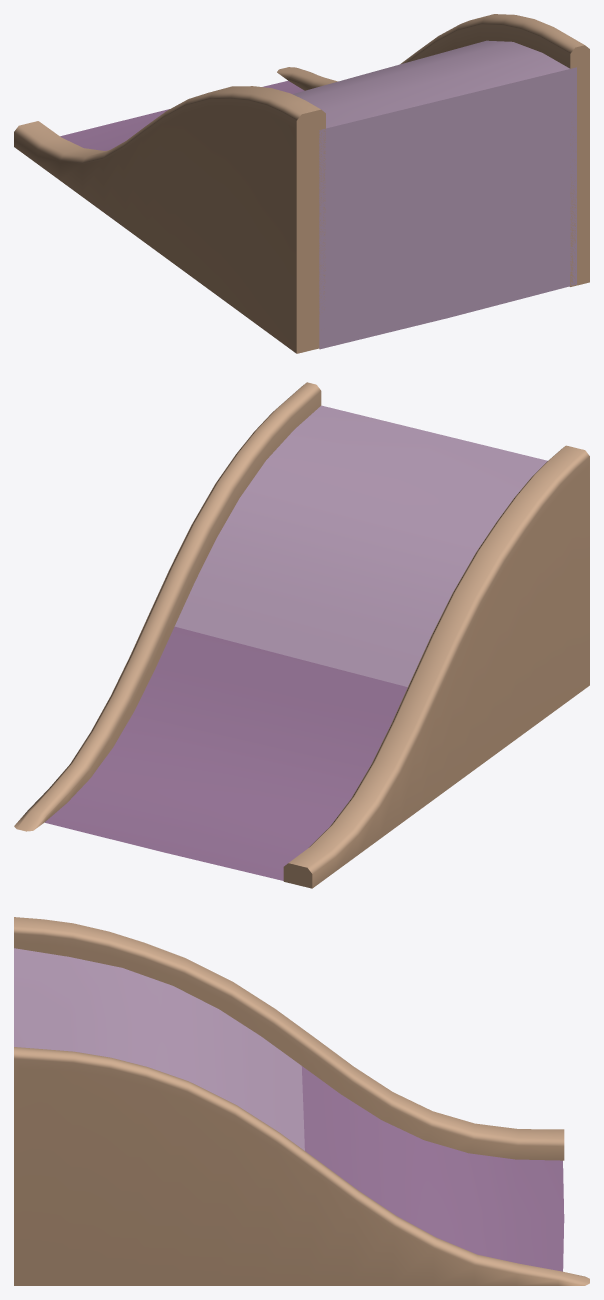
File: LuffyRoad_Straight4.fbx
The picture shows the model from 3 angles, top to bottom: view 1: azimuth 30°, elevation 25°; view 2: azimuth 150°, elevation 25°; view 3: azimuth 270°, elevation 25°; orthographic projection. The views are drawn at different scales.
Parts seen in each view (by area): view 1: LUFFY_Road_straight11, LUFFY_Road_straight4, LUFFY_Road_straight10, LUFFY_Road_straight12; view 2: LUFFY_Road_straight11, LUFFY_Road_straight12, LUFFY_Road_straight4, LUFFY_Road_straight10; view 3: LUFFY_Road_straight10, LUFFY_Road_straight11, LUFFY_Road_straight12, LUFFY_Road_straight4.
Part boxes in pixels (x1,y1,x2,y2): LUFFY_Road_straight11: (293,40,576,349); LUFFY_Road_straight4: (14,86,325,353); LUFFY_Road_straight10: (277,14,589,286); LUFFY_Road_straight12: (60,80,304,150); LUFFY_Road_straight11: (174,405,547,686); LUFFY_Road_straight12: (45,626,407,880); LUFFY_Road_straight4: (283,445,589,888); LUFFY_Road_straight10: (14,382,321,831); LUFFY_Road_straight10: (14,1047,589,1285); LUFFY_Road_straight11: (14,948,304,1150); LUFFY_Road_straight12: (301,1066,564,1271); LUFFY_Road_straight4: (14,917,564,1160).
Bounding box in the file's own units: 301 × 234 × 525.
